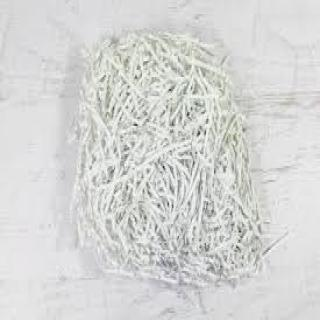PAPER: (72, 25, 263, 284)
